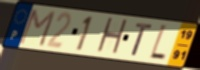1: (75, 15, 95, 52)
2: (44, 12, 73, 51)
H: (95, 16, 130, 57)
L: (147, 23, 167, 63)
M: (16, 8, 58, 49)
T: (130, 22, 155, 58)
